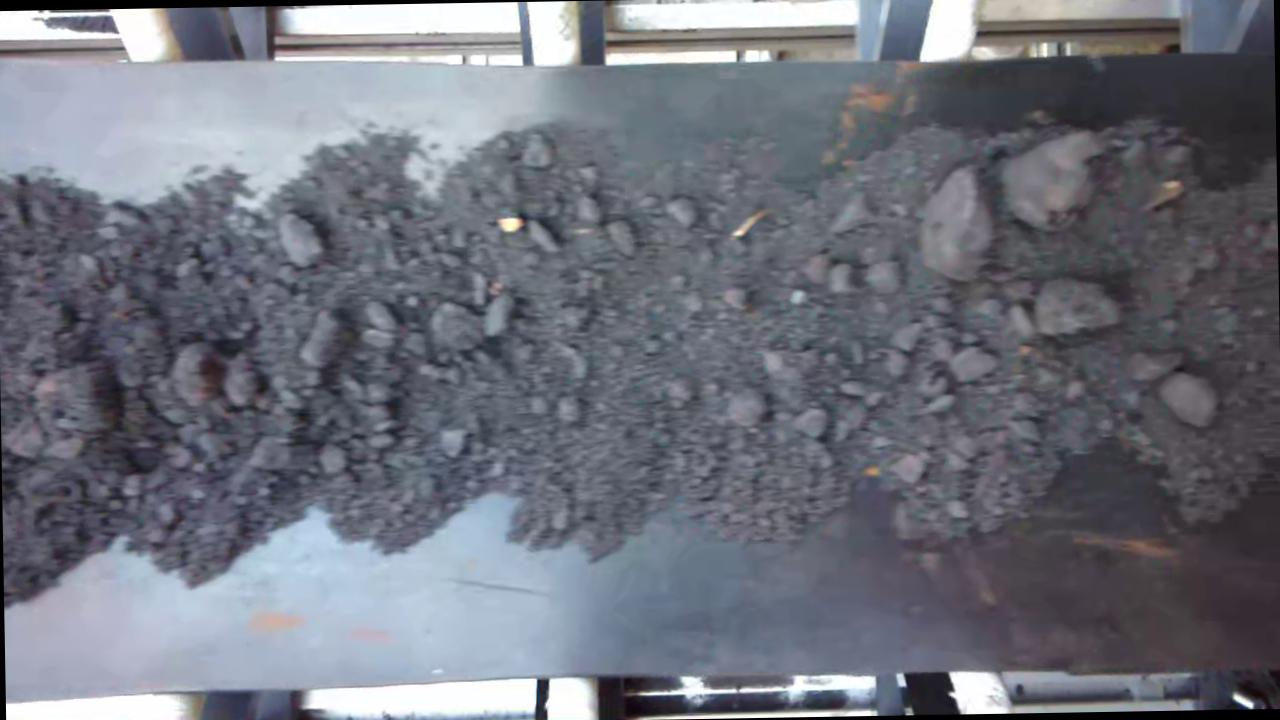conveyor: (1, 52, 1280, 680)
